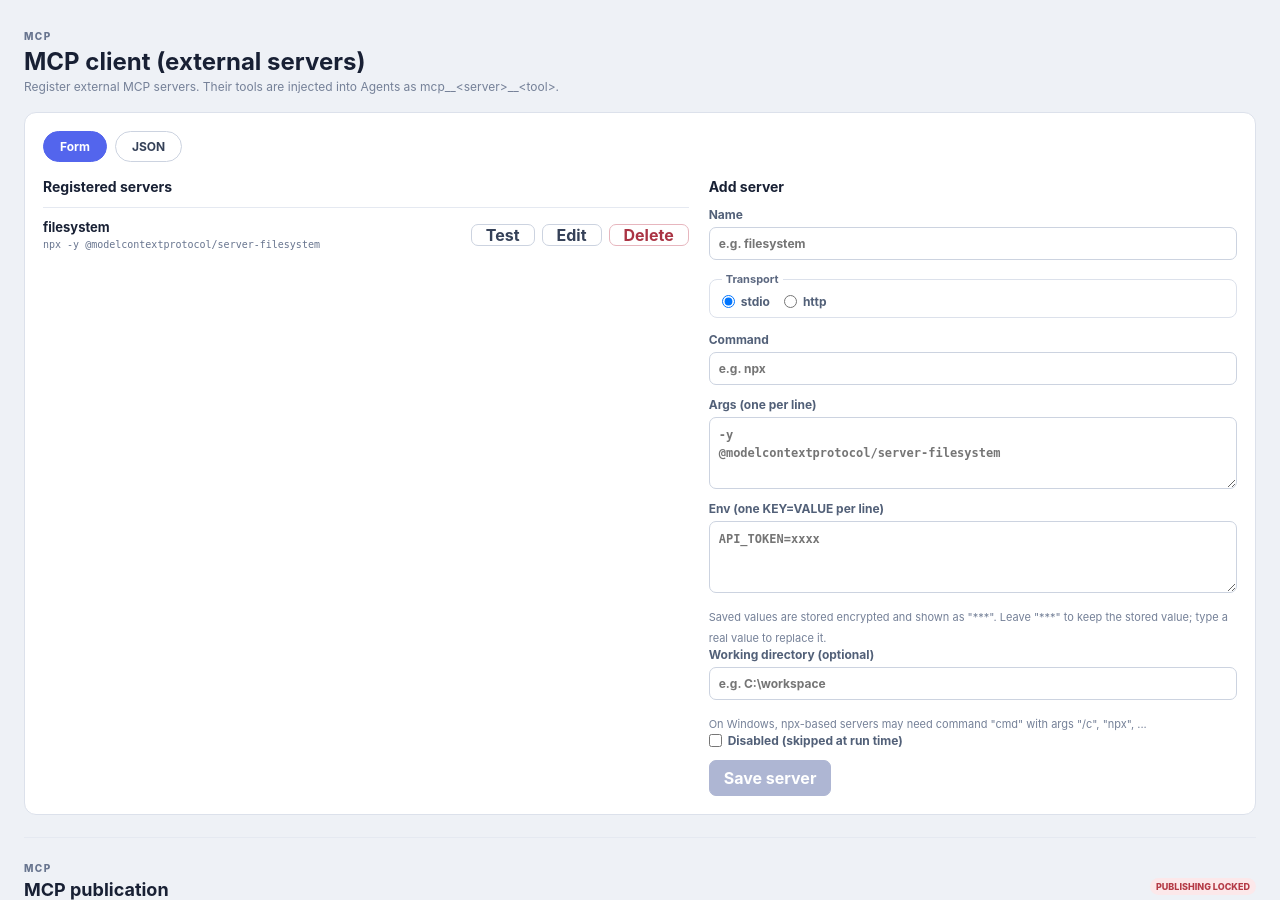
Test case: McpPage › MCPクライアント › 編集ボタンで既存設定をフォームへ復元し、nameは読み取り専用にする
The width and height of the screenshot is (1280, 900).
Click the button "Edit". click: point(572, 234)
box: [542,224,602,246]
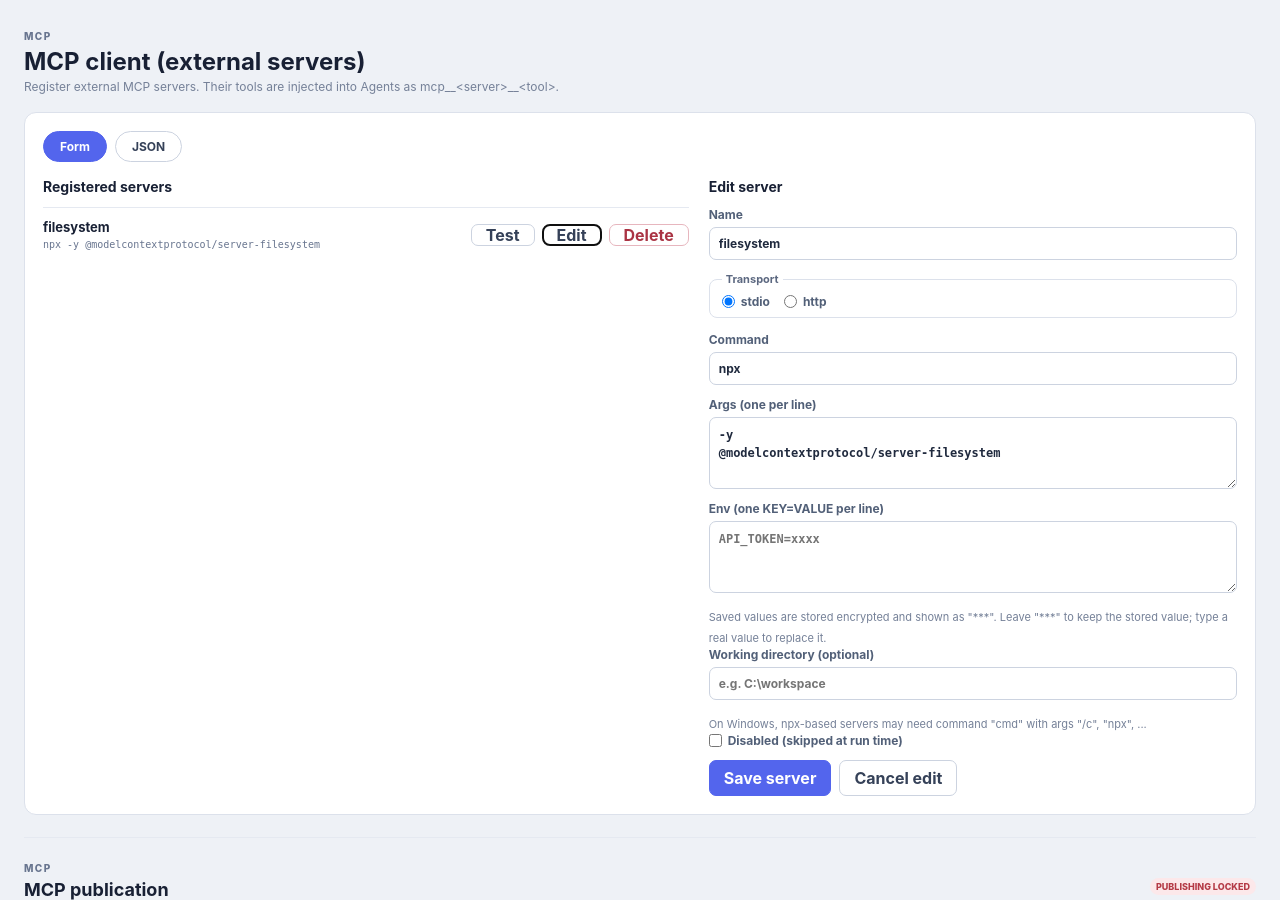
Now the field named "MCP server name" holds "filesystem", box [709,227,1237,260]
Now the field named "MCP command" holds "npx", box [709,352,1237,385]
